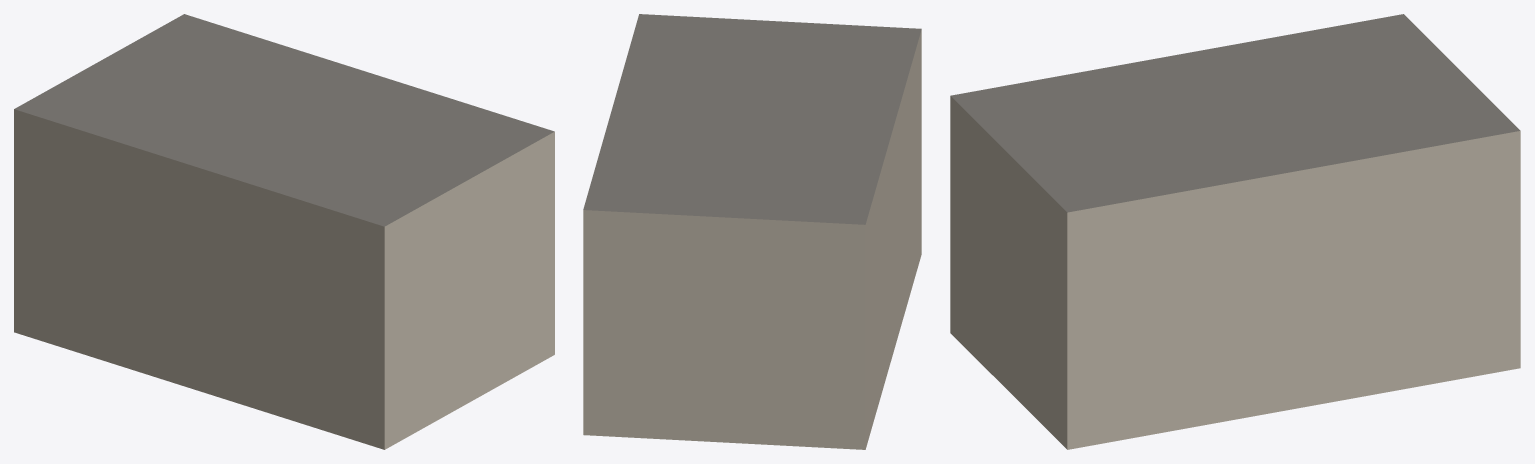
The picture shows the model from 3 angles, left to right: view 1: azimuth 30°, elevation 25°; view 2: azimuth 150°, elevation 25°; view 3: azimuth 270°, elevation 25°; orthographic projection. The views are drawn at different scales.
Parts seen in each view (by area): view 1: HP-w446934355; view 2: HP-w446934355; view 3: HP-w446934355.
Boxes of the visible parts, <box> form: HP-w446934355: <box>14,14,554,449</box>; HP-w446934355: <box>583,14,921,449</box>; HP-w446934355: <box>950,14,1520,449</box>.
Size of the model in its own units: 32.29 by 18 by 39.18.
